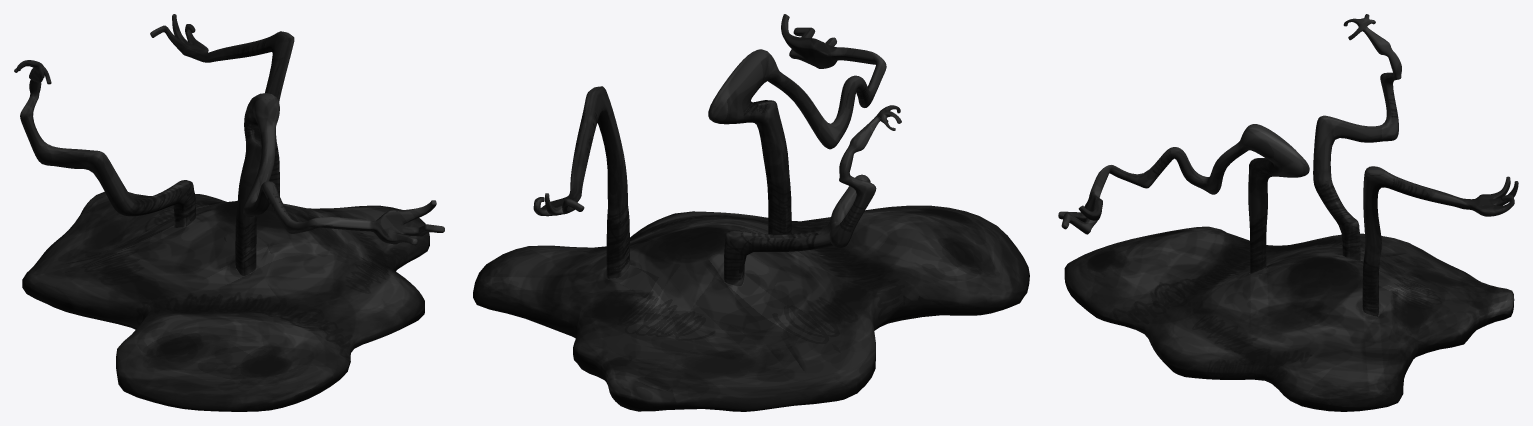
The model's file is Trap-2.fbx.
The picture shows the model from 3 angles, left to right: view 1: azimuth 30°, elevation 25°; view 2: azimuth 150°, elevation 25°; view 3: azimuth 270°, elevation 25°; orthographic projection. The views are drawn at different scales.
Visible parts, largest first — view 1: Trap_Bloob, Trap_Arm002, Trap_Arm003, Trap_Arm001; view 2: Trap_Bloob, Trap_Arm002, Trap_Arm001, Trap_Arm003; view 3: Trap_Bloob, Trap_Arm002, Trap_Arm003, Trap_Arm001.
Part boxes in pixels (x1,y1,x2,y2): Trap_Bloob: (22, 191, 429, 411); Trap_Arm002: (235, 93, 444, 276); Trap_Arm003: (14, 60, 195, 227); Trap_Arm001: (150, 14, 294, 195); Trap_Bloob: (473, 205, 1029, 411); Trap_Arm002: (708, 14, 886, 234); Trap_Arm001: (533, 86, 629, 278); Trap_Arm003: (724, 105, 901, 286); Trap_Bloob: (1064, 226, 1514, 411); Trap_Arm002: (1058, 124, 1309, 273); Trap_Arm003: (1313, 14, 1401, 261); Trap_Arm001: (1362, 166, 1518, 316).
Size of the model in its own units: 51.33 by 31.83 by 57.37.
